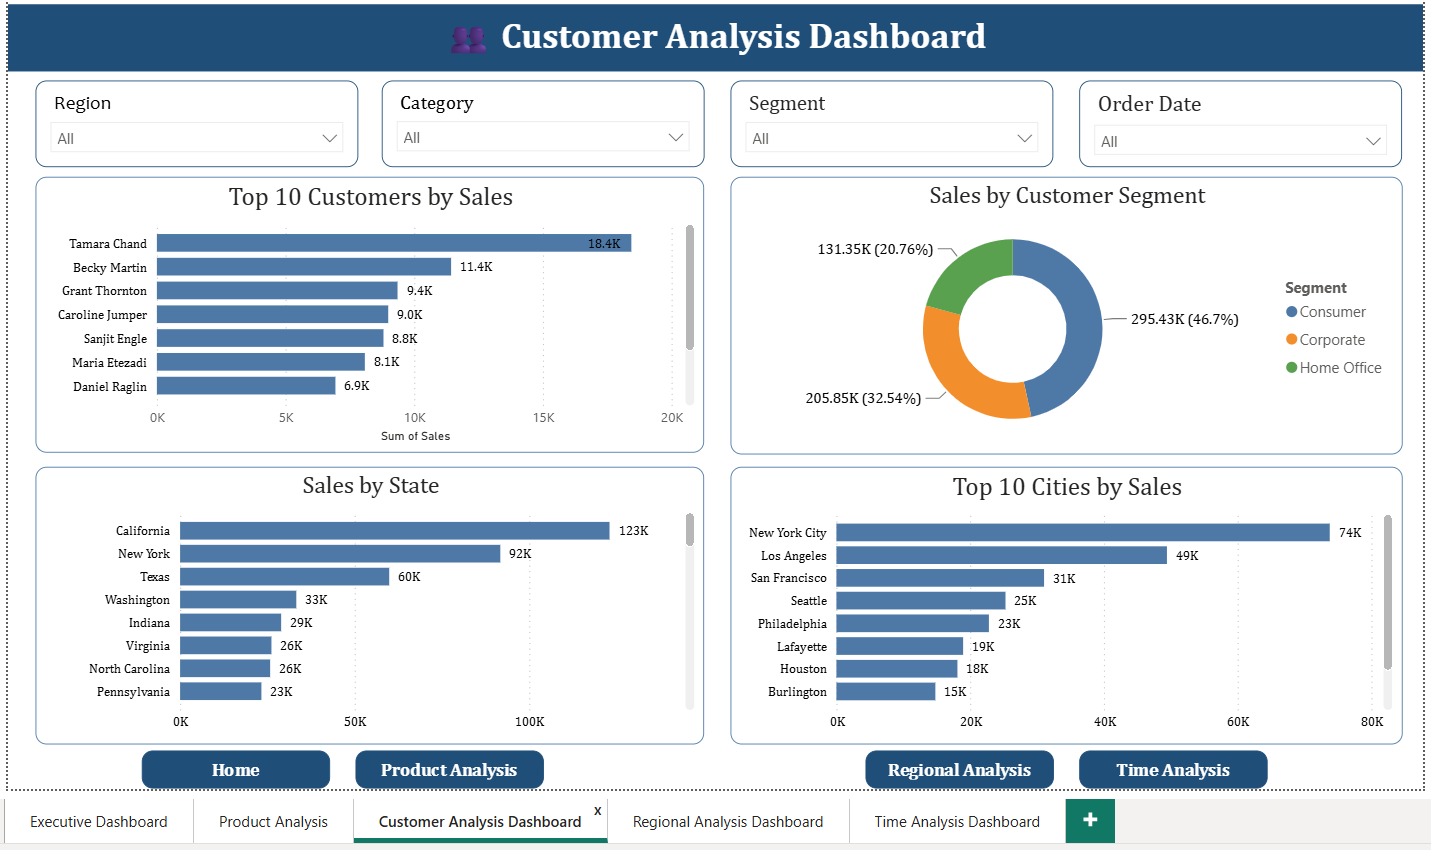

What the dashboard file says about the page in this screenshot:
{"tool":"powerbi","page":{"name":"Customer Analysis Dashboard","canvas":[1280,720],"ordinal":2},"visuals":[{"type":"textbox","box":[0,10.5,1280.2,61],"z":0},{"type":"slicer","fields":{"Values":["superstore_clean.Region"]},"box":[24.7,79.6,292.3,78.2],"z":1000},{"type":"slicer","fields":{"Values":["superstore_clean.Category"]},"box":[337.6,79.6,292.3,78.2],"z":2000},{"type":"slicer","fields":{"Values":["superstore_clean.Segment"]},"box":[653.2,79.6,292.3,78.2],"z":3000},{"type":"slicer","fields":{"Values":["superstore_clean.Order Date"]},"box":[968.8,79.6,292.3,78.2],"z":4000},{"type":"clusteredBarChart","title":"Top 10 Customers by Sales","fields":{"Category":["superstore_clean.Customer Name"],"Y":["Sum(superstore_clean.Sales)"]},"box":[24.7,166,605.1,249.7],"z":5000},{"type":"donutChart","title":"Sales by Customer Segment","fields":{"Category":["superstore_clean.Segment"],"Y":["Sum(superstore_clean.Sales)"]},"box":[653.2,166,607.9,251.1],"z":6000},{"type":"clusteredBarChart","title":"Sales by State","fields":{"Category":["superstore_clean.State"],"Y":["Sum(superstore_clean.Sales)"]},"box":[24.7,428.1,605.1,251.1],"z":7000},{"type":"clusteredBarChart","title":"Top 10 Cities by Sales","fields":{"Category":["superstore_clean.City"],"Y":["Sum(superstore_clean.Sales)"]},"box":[653.2,428.1,607.9,251.1],"z":8000},{"type":"actionButton","box":[120.8,685.7,170.2,34.3],"z":9000},{"type":"actionButton","box":[314.2,685.7,170.2,34.3],"z":10000},{"type":"actionButton","box":[775.3,685.7,170.2,34.3],"z":11000},{"type":"actionButton","box":[968.8,685.7,170.2,34.3],"z":12000}]}

Visuals, with their boxes on the page's 1280x720 design canvas (x1, y1, x2, y2). These are canvas units, not pixel positions in the 1431x850 screenshot, which may show the page scaled, cropped or inside an application window:
textbox: [0,10,1280,72]
slicer - superstore_clean.Region: [25,80,317,158]
slicer - superstore_clean.Category: [338,80,630,158]
slicer - superstore_clean.Segment: [653,80,946,158]
slicer - superstore_clean.Order Date: [969,80,1261,158]
"Top 10 Customers by Sales" clusteredBarChart: [25,166,630,416]
"Sales by Customer Segment" donutChart: [653,166,1261,417]
"Sales by State" clusteredBarChart: [25,428,630,679]
"Top 10 Cities by Sales" clusteredBarChart: [653,428,1261,679]
actionButton: [121,686,291,720]
actionButton: [314,686,484,720]
actionButton: [775,686,946,720]
actionButton: [969,686,1139,720]
